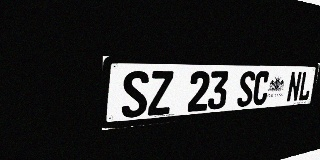2: (187, 71, 210, 112)
3: (207, 71, 229, 110)
C: (252, 71, 270, 106)
L: (297, 71, 313, 101)
N: (286, 71, 302, 102)
S: (121, 71, 149, 118), (236, 71, 256, 107)
Z: (148, 71, 174, 116)
